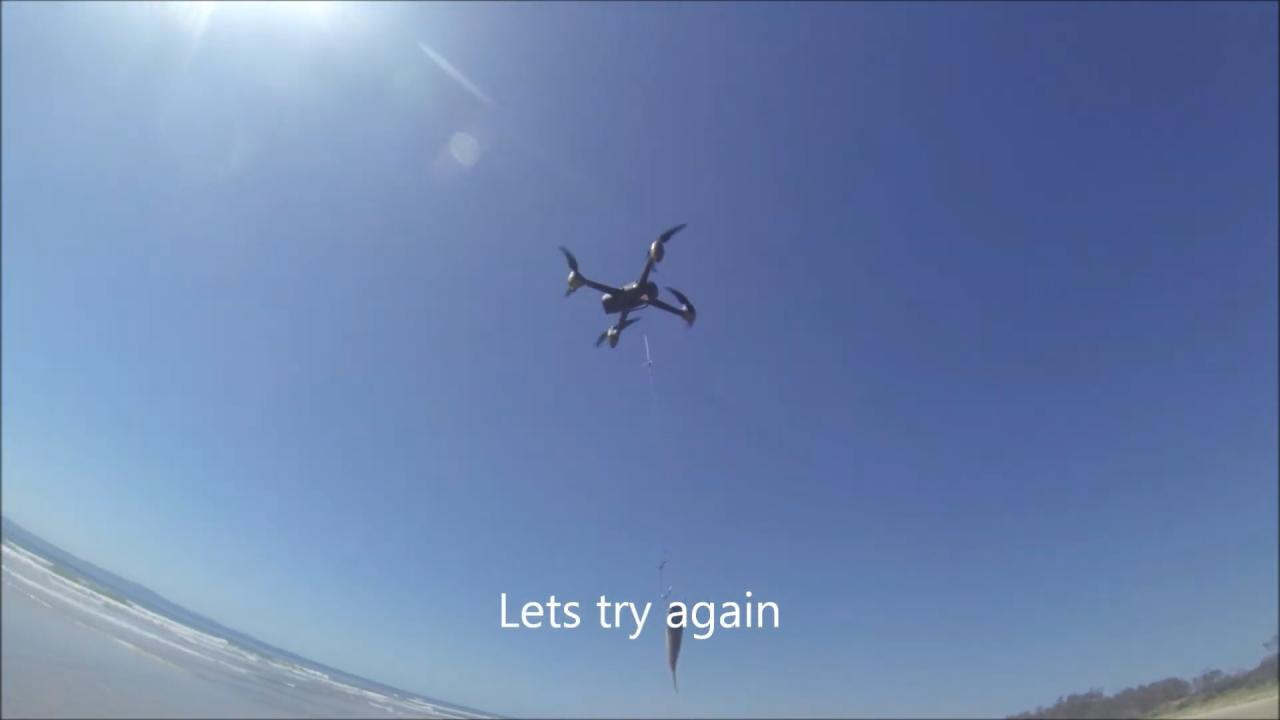Drone: (549, 215, 709, 360)
